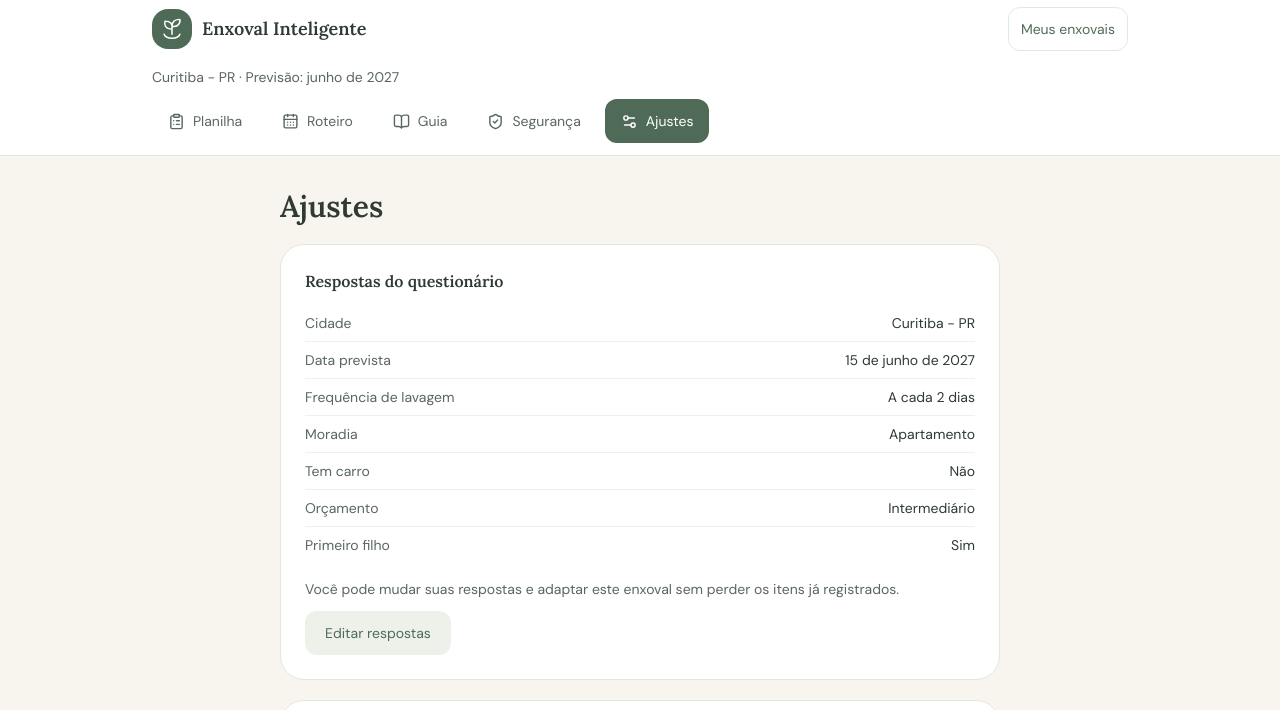
Test: Ajustes › revisa e atualiza o mesmo enxoval com as demais respostas preservadas
The width and height of the screenshot is (1280, 710).
Click the button "Editar respostas".
click(378, 633)  # box [305,611,451,655]
(page scrolled)
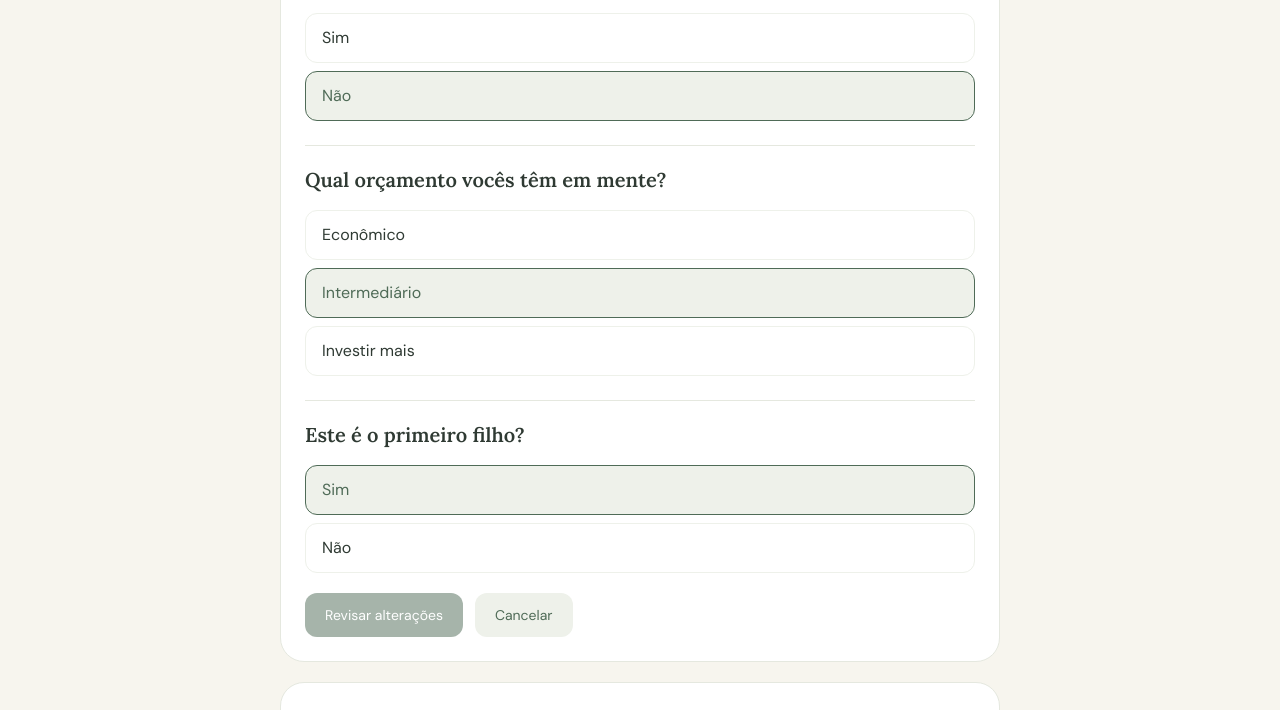
Check: the button "Revisar alterações" is disabled, box [305,593,463,637]
Click the radio button labelled "Investir mais".
click(368, 350)  # box [305,326,975,376]
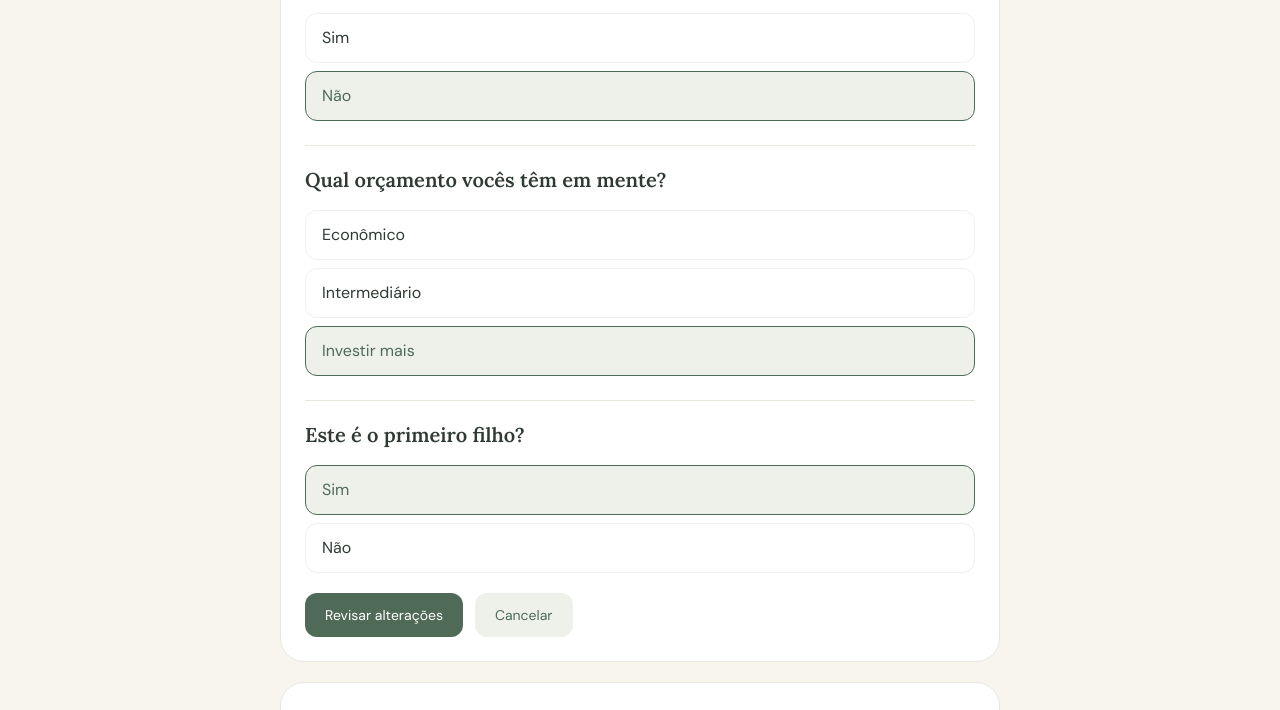
Click the button "Revisar alterações".
click(384, 615)  # box [305,593,463,637]
(page scrolled)
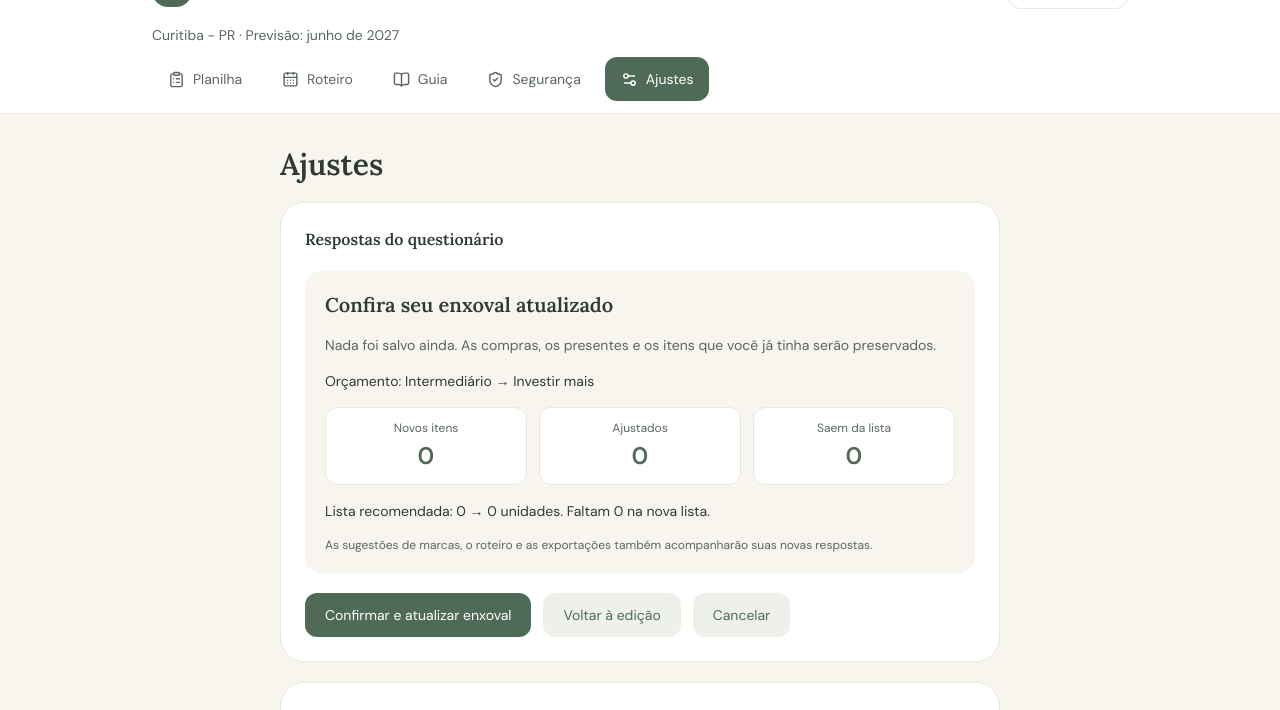
Click the button "Confirmar e atualizar enxoval".
click(418, 615)  # box [305,593,531,637]
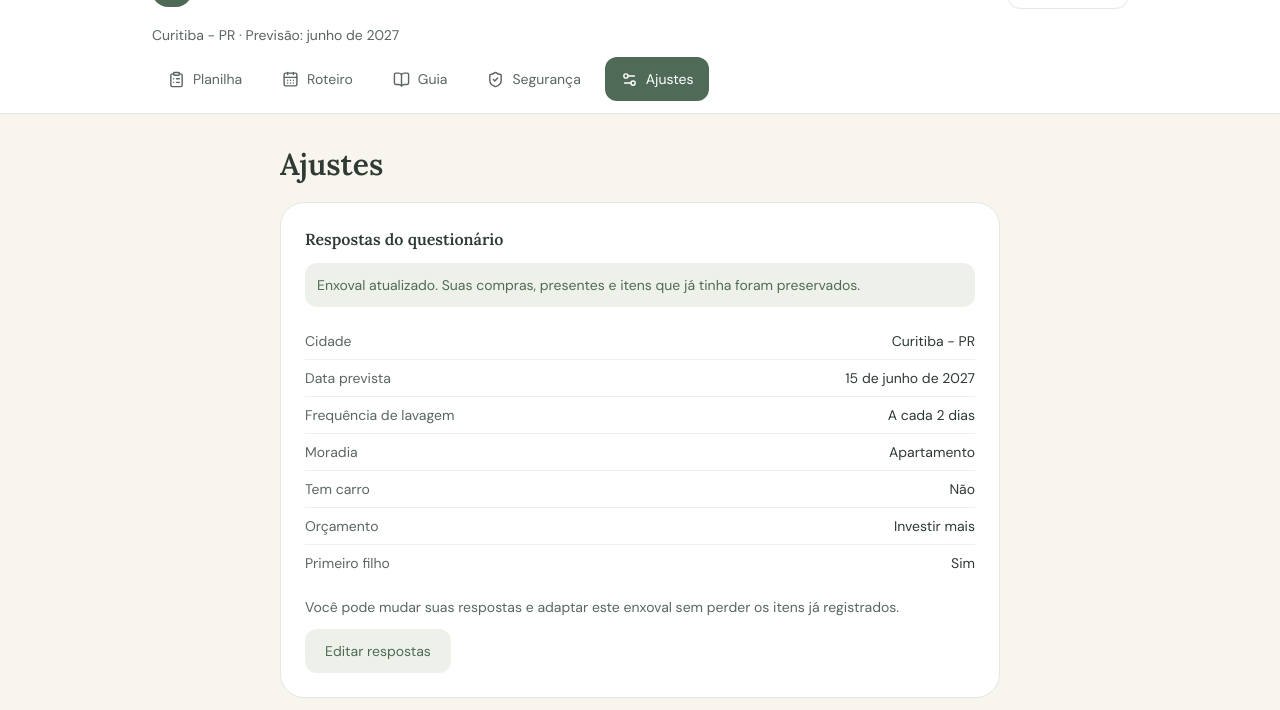
Check: the text "Investir mais" is shown, box [894,516,975,536]
Check: the message shows "Enxoval atualizado", box [317,276,860,294]
